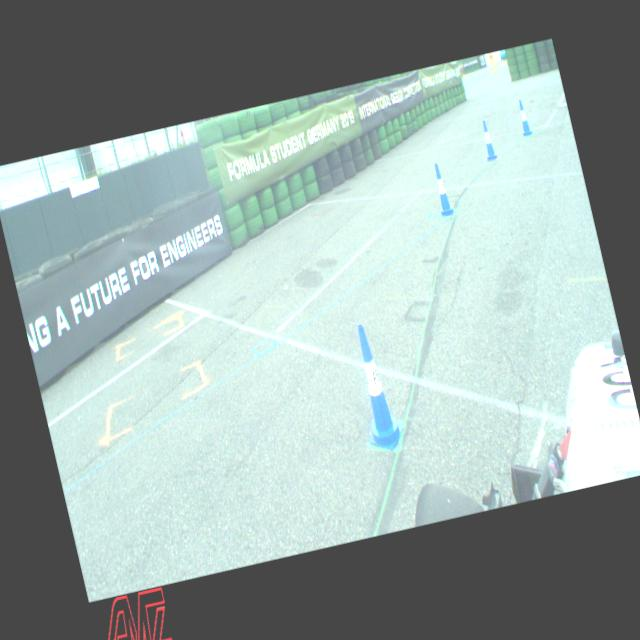blue_cone: (343, 320, 408, 454), (428, 162, 454, 218), (477, 118, 498, 161), (514, 98, 532, 136)
yellow_cone: (488, 64, 492, 74)
